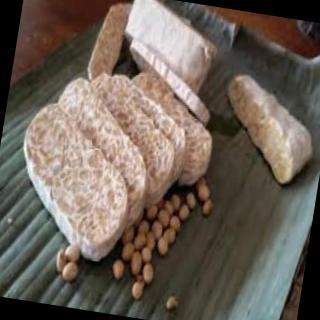Tempe: (5, 55, 234, 280)
